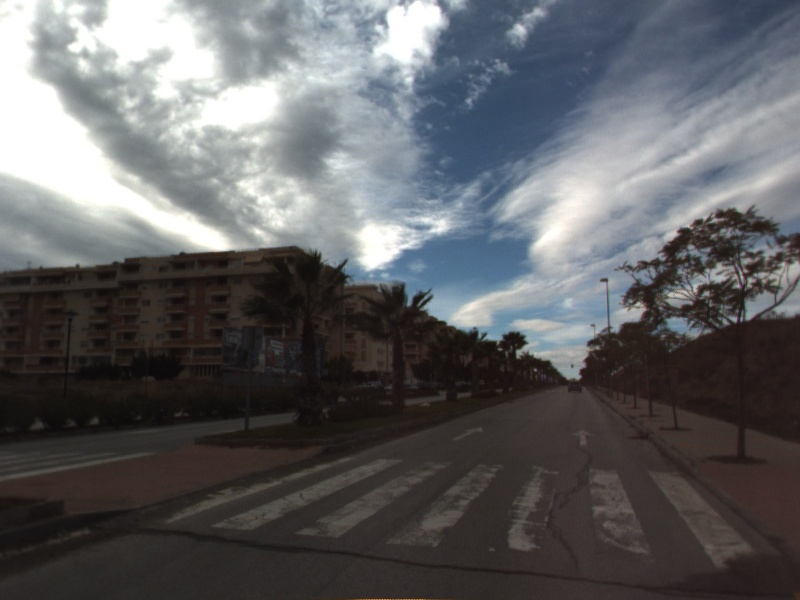STRAIGHT: (451, 424, 484, 442), (570, 427, 597, 448)
